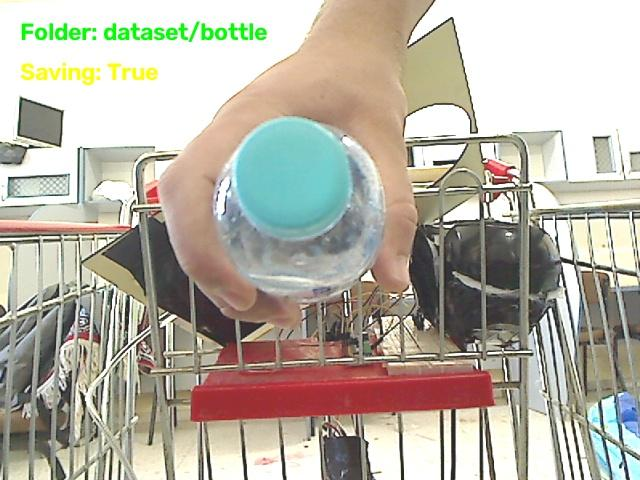Bottle: (215, 117, 384, 302)
